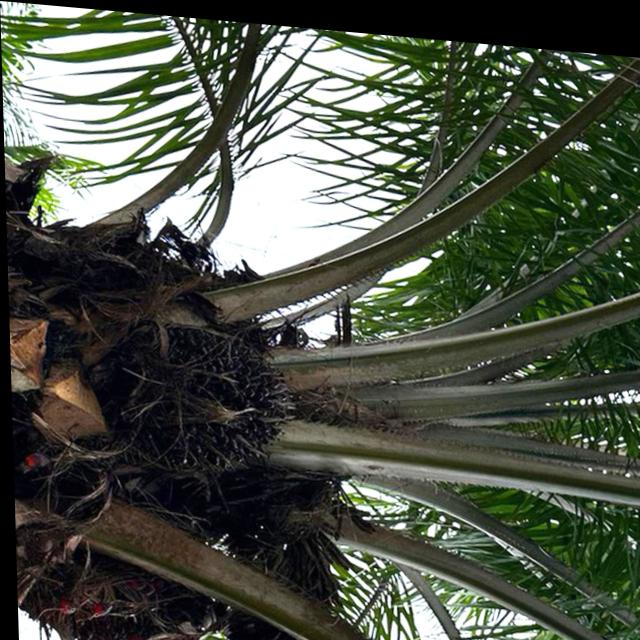almost: (109, 309, 307, 486)
